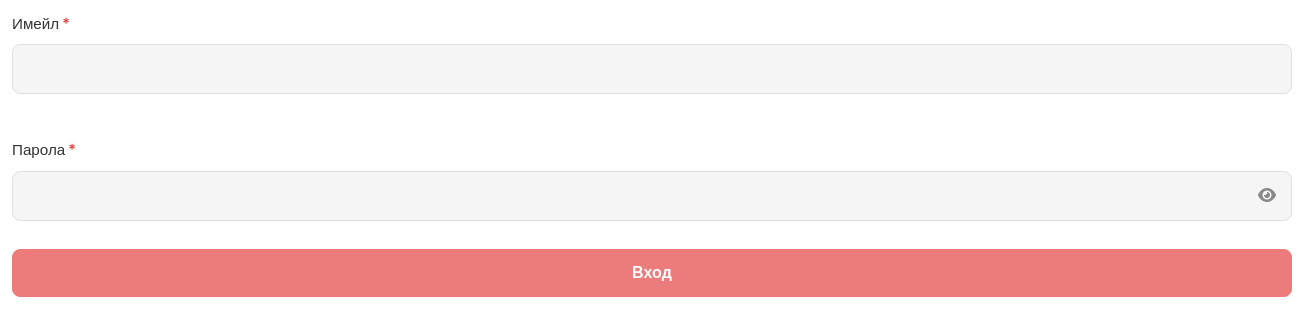
Test: LoginForm компонент › деактивира бутона за вход докато формата е невалидна
Expected: the button "Вход" is disabled, x1=12 y1=249 x2=1292 y2=297
# Въвеждаме валидни данни
Type "test@example.com" into the field labelled "Имейл*". click: (652, 69)
box: x1=12 y1=44 x2=1292 y2=94
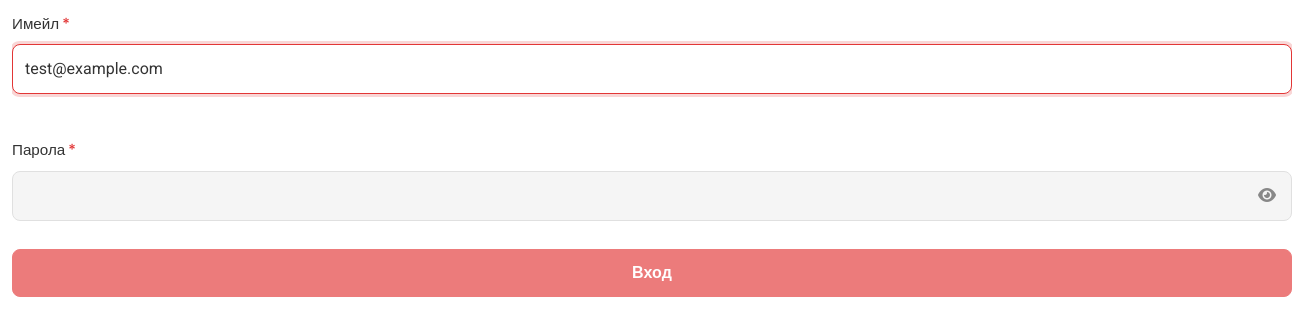
Type "password123" into the password field labelled "Парола*". click: (652, 196)
box: x1=12 y1=171 x2=1292 y2=221
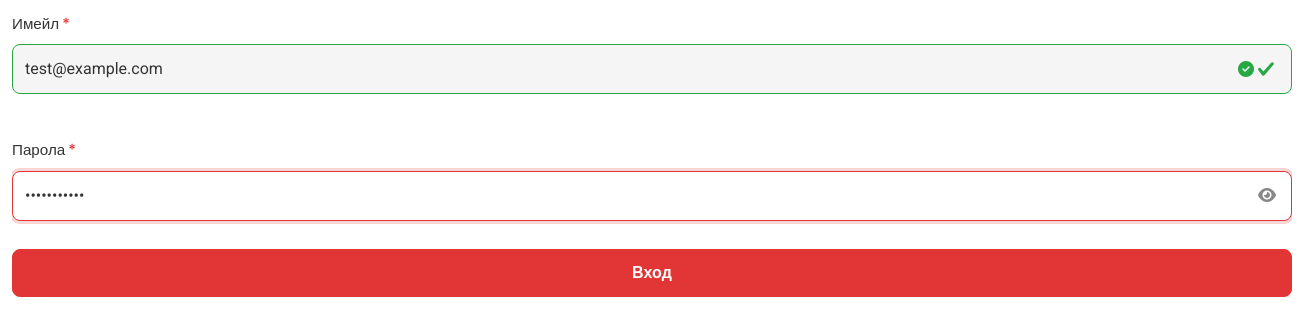
Now the button "Вход" is enabled, box x1=12 y1=249 x2=1292 y2=297
